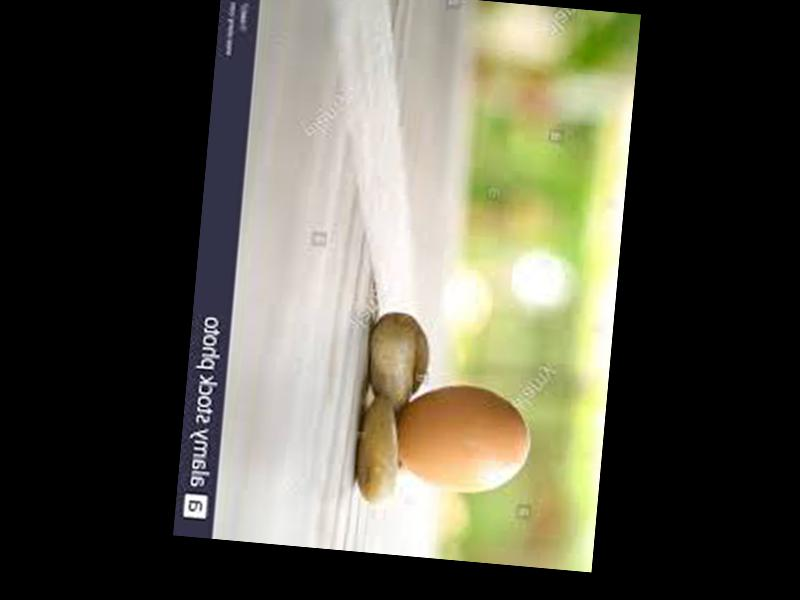Eggs: (392, 379, 532, 499)
